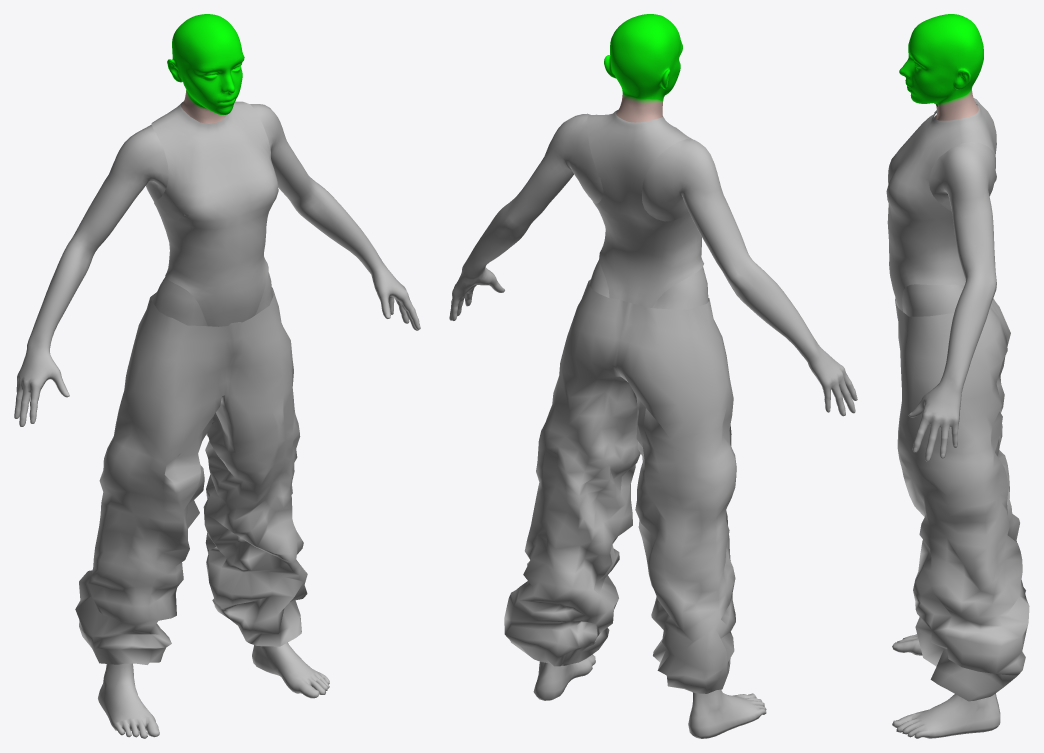
The model's file is z4 whole low.fbx.
3 renders of one model, left to right at view 1: azimuth 30°, elevation 25°; view 2: azimuth 150°, elevation 25°; view 3: azimuth 270°, elevation 25°, orthographic.
Parts seen in each view (by area): view 1: polySurface94, body_low_no_head_zyr4, beixin, polySurface90; view 2: polySurface94, body_low_no_head_zyr4, beixin, polySurface90; view 3: polySurface94, body_low_no_head_zyr4, beixin, polySurface90.
Part boxes in pixels (x1,y1,x2,y2): polySurface94: [75, 287, 307, 664]; body_low_no_head_zyr4: [14, 104, 420, 738]; beixin: [151, 101, 278, 326]; polySurface90: [167, 14, 244, 123]; polySurface94: [504, 279, 736, 693]; body_low_no_head_zyr4: [449, 113, 857, 738]; beixin: [587, 109, 703, 307]; polySurface90: [604, 14, 682, 122]; polySurface94: [895, 298, 1029, 701]; body_low_no_head_zyr4: [892, 98, 1000, 738]; beixin: [886, 100, 996, 311]; polySurface90: [899, 14, 983, 120].
Size of the model in its own units: 17057 by 27915 by 5375.
